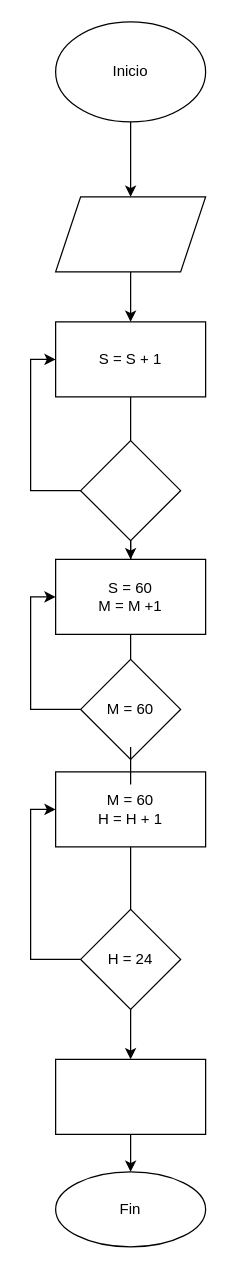
This 228x1269 diagram has some shape labels left out. Here are the shapes that lost their labels. From the top down, the centre of each, then its label:
point 130,234: S = segundos M = minutos H = hora D = dia
point 130,490: S = 60
point 130,1096: H = 24 D = D + 1
